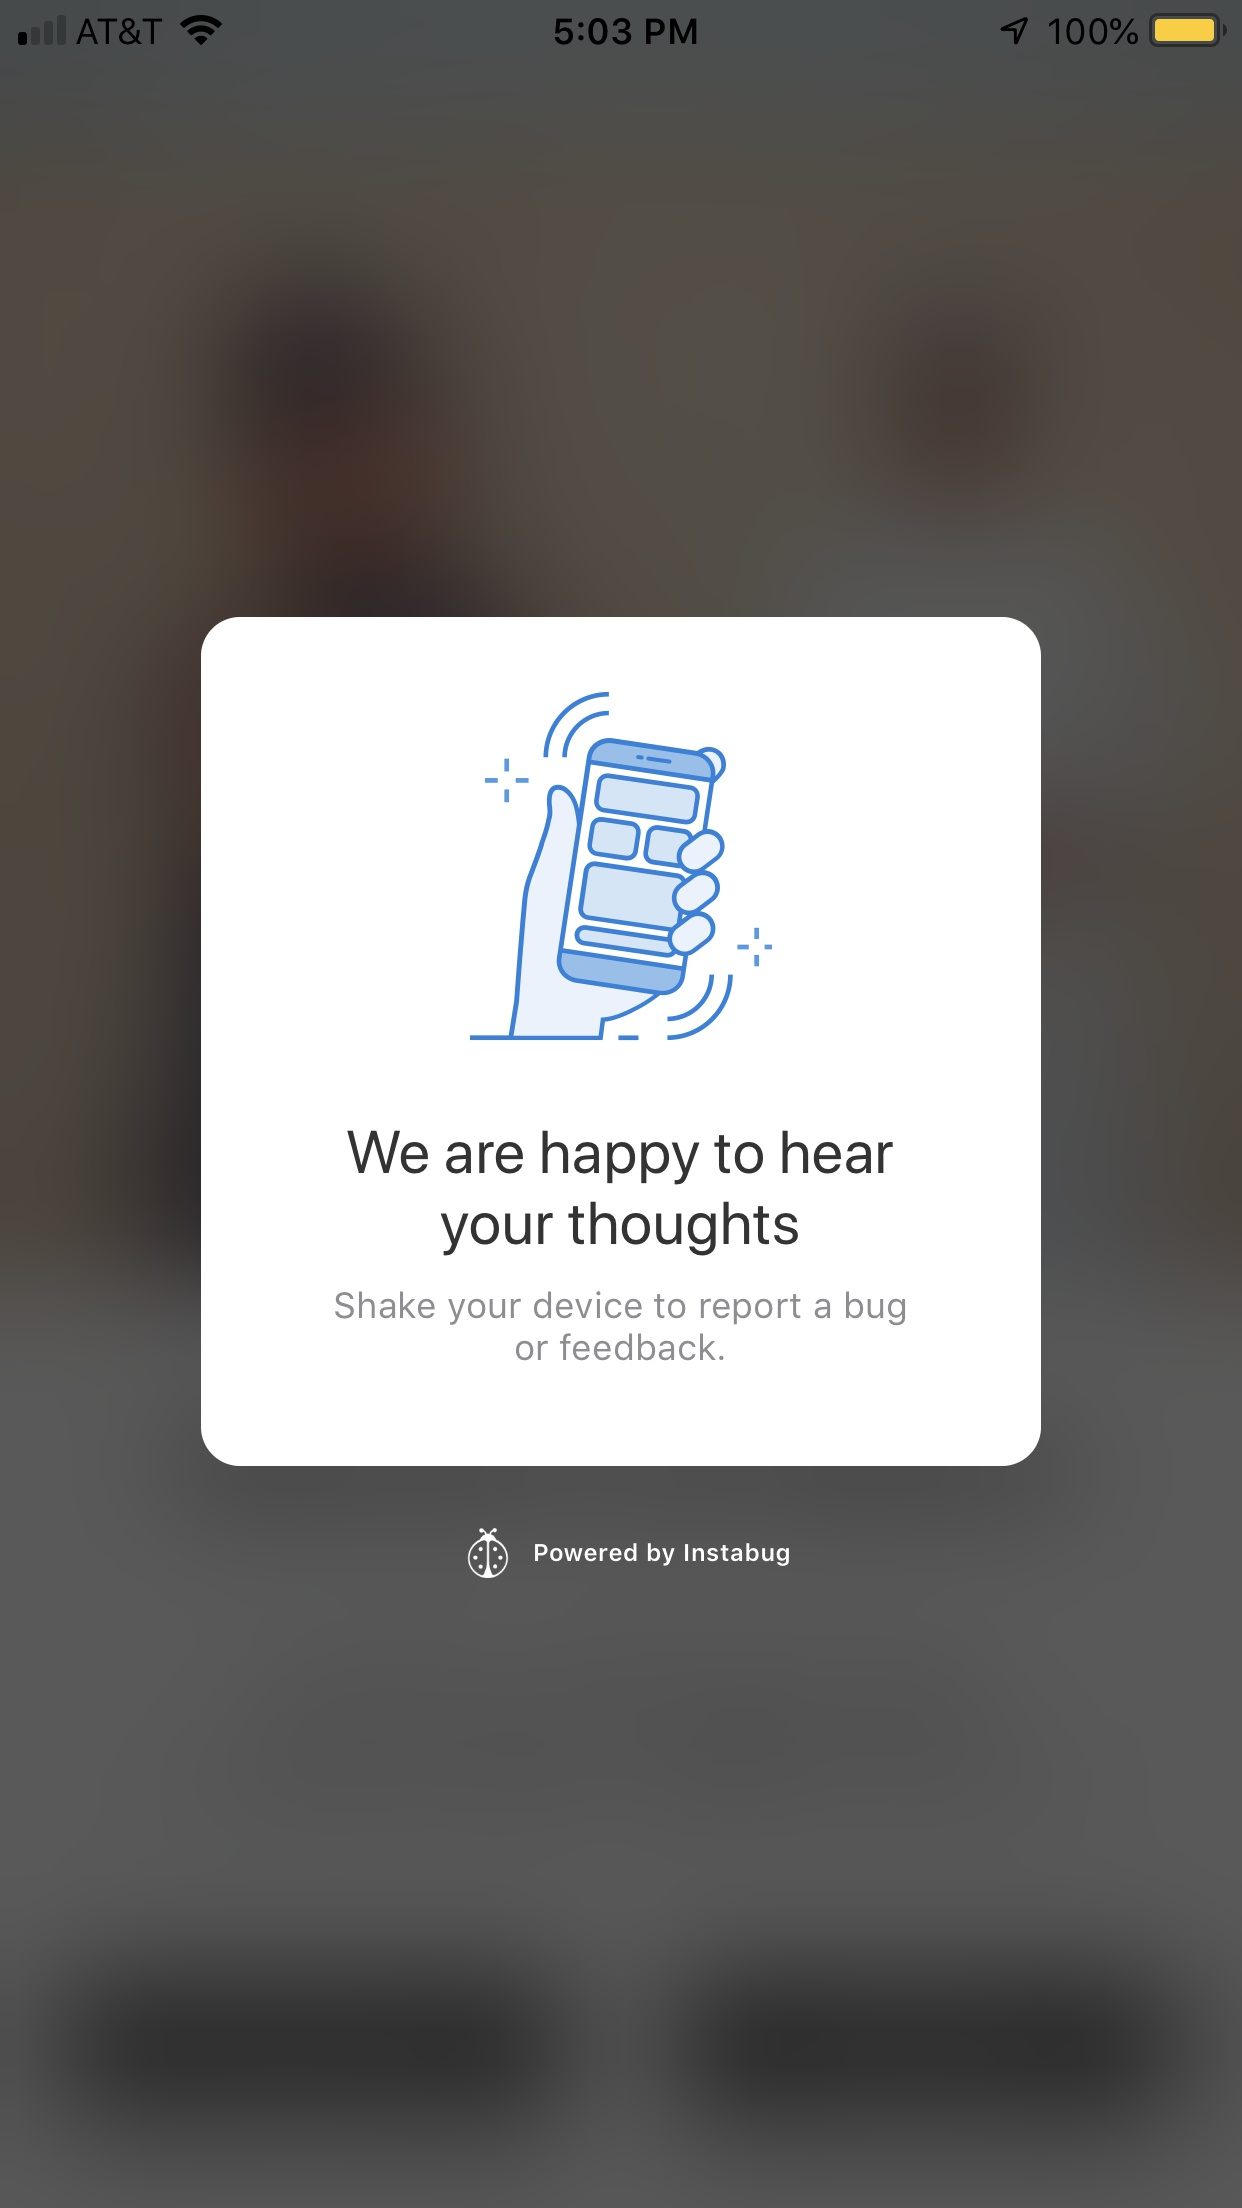Image: (469, 692, 773, 1042), (469, 1527, 510, 1580)
Modal: (200, 617, 1042, 1468)
Text: (346, 1130, 895, 1257), (335, 1291, 907, 1362), (534, 1542, 790, 1568)
UpperTaskBar: (2, 2, 1242, 49)
